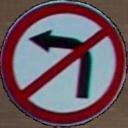NoVirarEsquerda: (1, 2, 127, 124)
